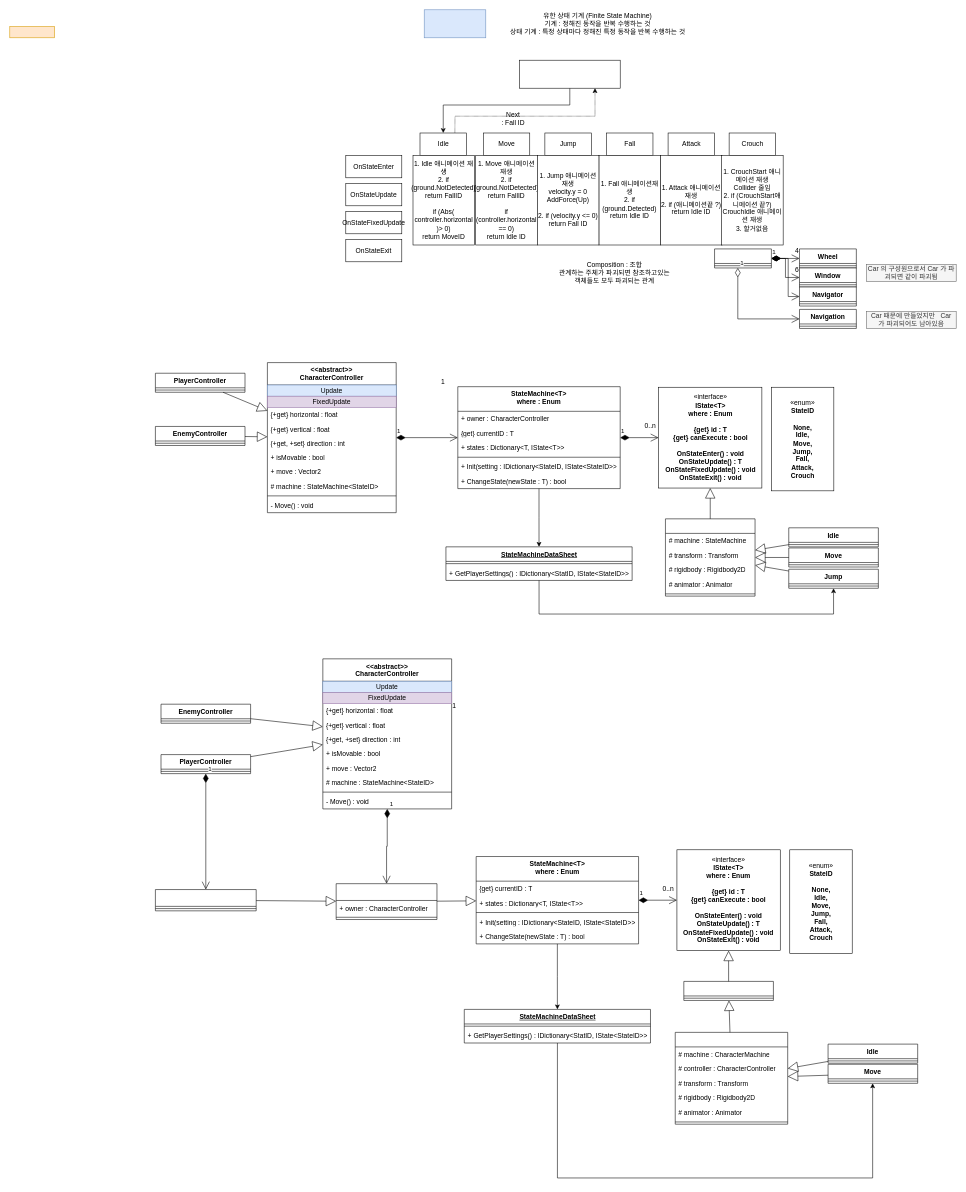
The diagram is 966 pixels wide and 1192 high, and some of its shapes have lost their labels. The box of each missing label's shape, as (x1, y1, x2, y2) in pixels:
Car: (714, 248, 771, 268)
CharacterMachine: (336, 883, 437, 920)
CharacterStateBase: (675, 1032, 788, 1124)
FSM: (424, 9, 486, 38)
LateUpdate: (9, 26, 55, 38)
Machine: (519, 60, 620, 88)
PlayerMachine: (155, 889, 256, 911)
StateBase: (665, 518, 755, 596)
StateBase<T>: (683, 981, 773, 1000)
